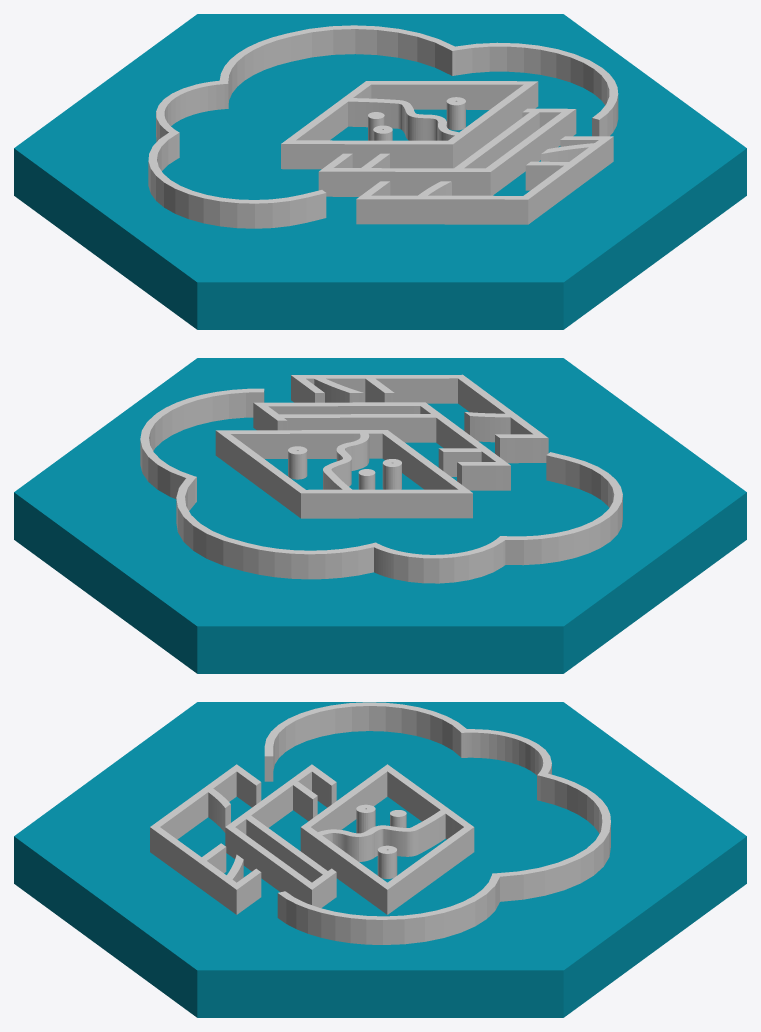
File: Intelligence Analysis.glb
3 views of the same model, one above another, from view 1: azimuth 30°, elevation 25°; view 2: azimuth 150°, elevation 25°; view 3: azimuth 270°, elevation 25° (orthographic).
Parts seen in each view (by area): view 1: Mesh_Mesh_head_geo.001_lambert2SG.001; view 2: Mesh_Mesh_head_geo.001_lambert2SG.001; view 3: Mesh_Mesh_head_geo.001_lambert2SG.001.
Boxes of the visible parts, box(x1,y1,x2,y2) form: Mesh_Mesh_head_geo.001_lambert2SG.001: box(14, 14, 746, 329); Mesh_Mesh_head_geo.001_lambert2SG.001: box(14, 358, 746, 673); Mesh_Mesh_head_geo.001_lambert2SG.001: box(14, 702, 746, 1017).
Bounding box in the file's own units: 58.89 × 10 × 68.
